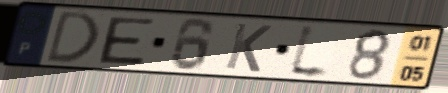6: (168, 16, 215, 73)
8: (345, 28, 395, 81)
D: (42, 8, 102, 65)
E: (97, 15, 158, 67)
K: (222, 21, 274, 74)
L: (285, 21, 334, 83)
